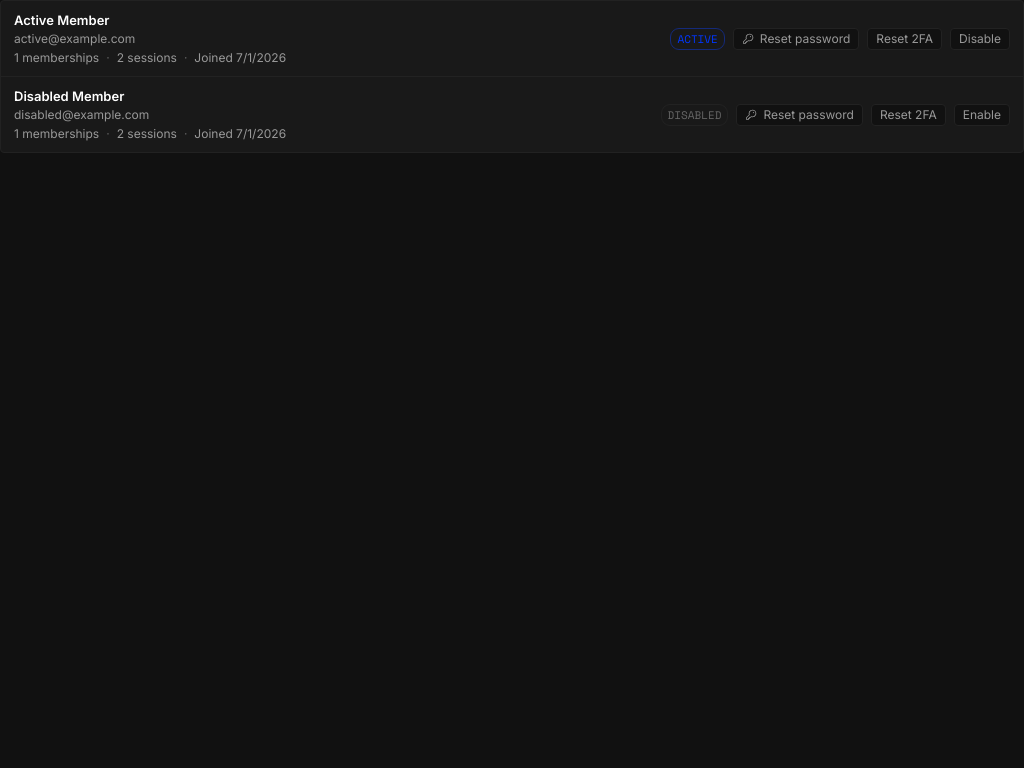
Test: admin management screens › requires confirmation before disabling a user and displays the mutation result
The image size is (1024, 768).
Expected: the text "Active Member" is shown, [14, 12, 110, 28]
Click the button "Disable": (980, 38) [950, 28, 1010, 50]
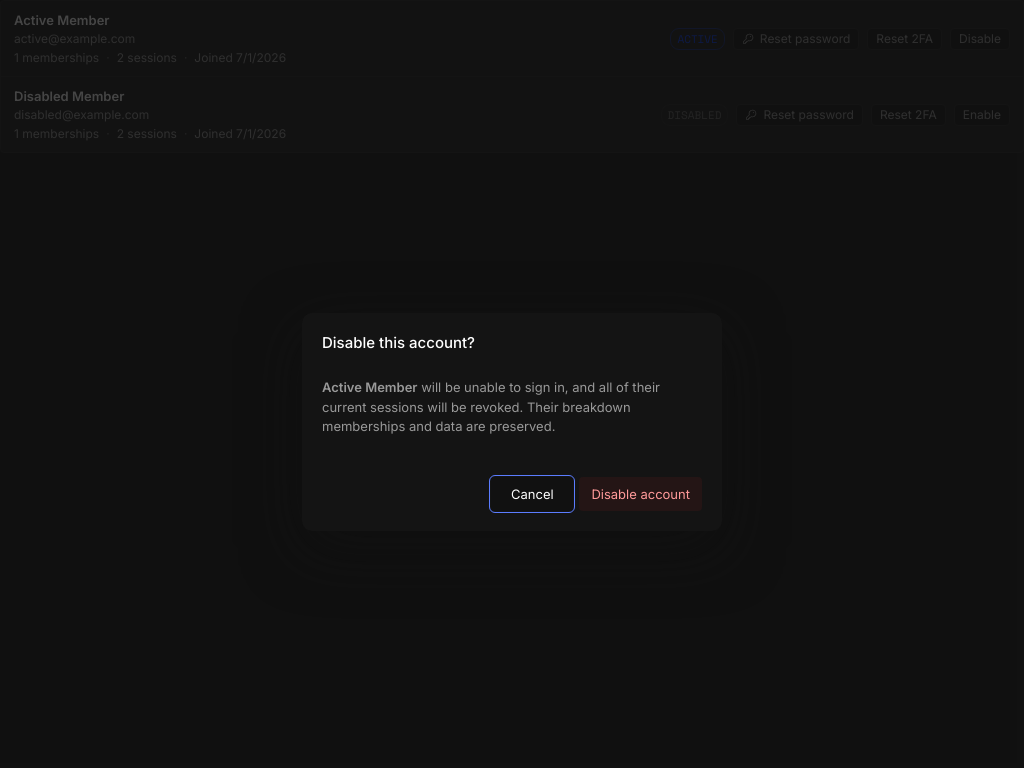
Expected: the dialog "Disable this account?" is shown, [302, 313, 722, 531]
Click the button "Disable account": (641, 494) [579, 477, 702, 511]
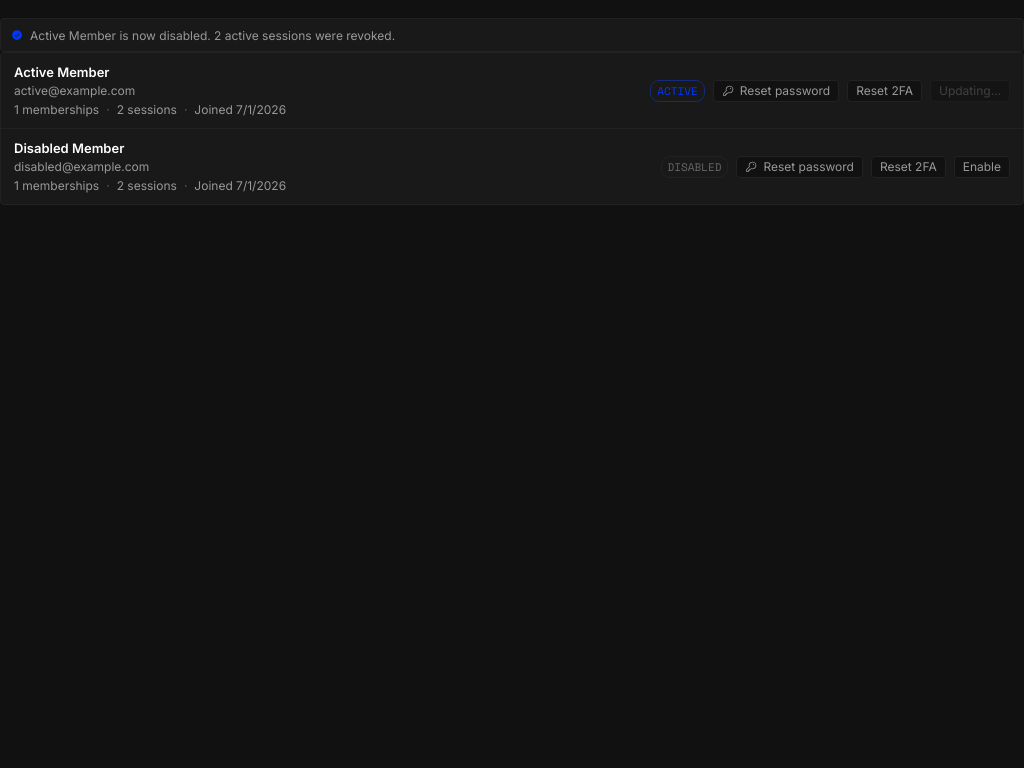
Expected: the message reads "Active Member is now disabled. 2 active sessions were revoked.", [30, 28, 395, 42]
